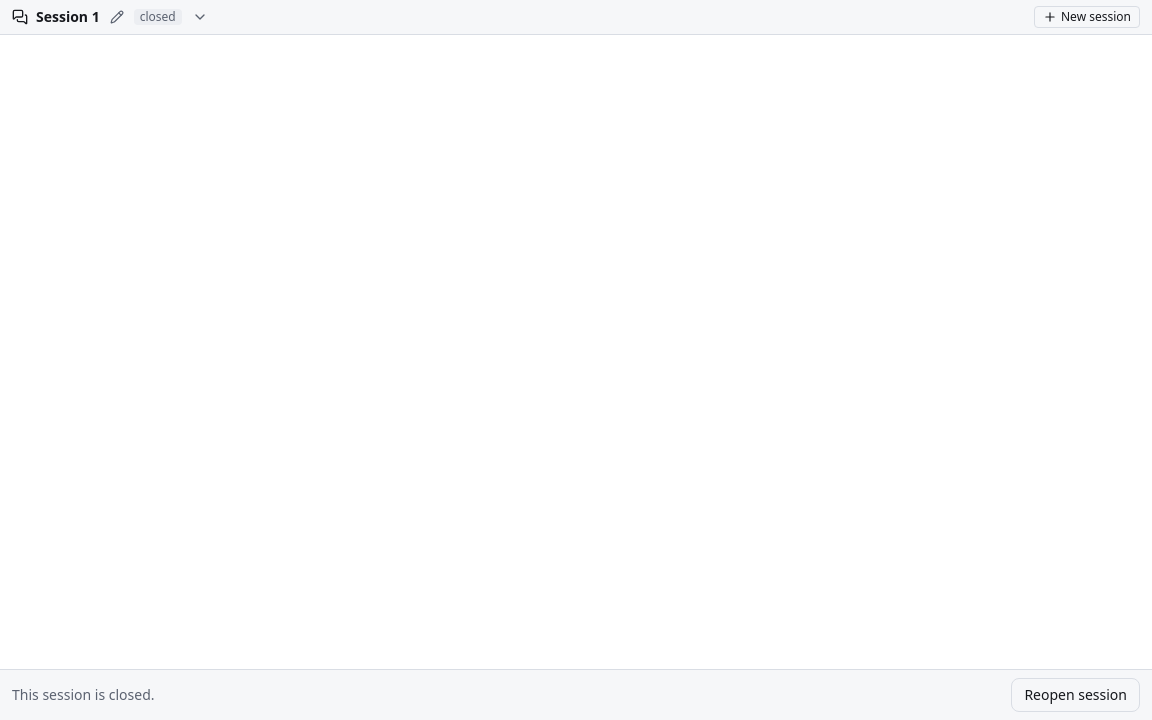
Test: ChatPanel with sessions › a closed session hides the composer and offers Reopen
Expected: the heading "Session 1" is shown, [36, 7, 100, 27]
Step 1. Click the button "Reopen session" → (1076, 695), box [1011, 678, 1140, 712]
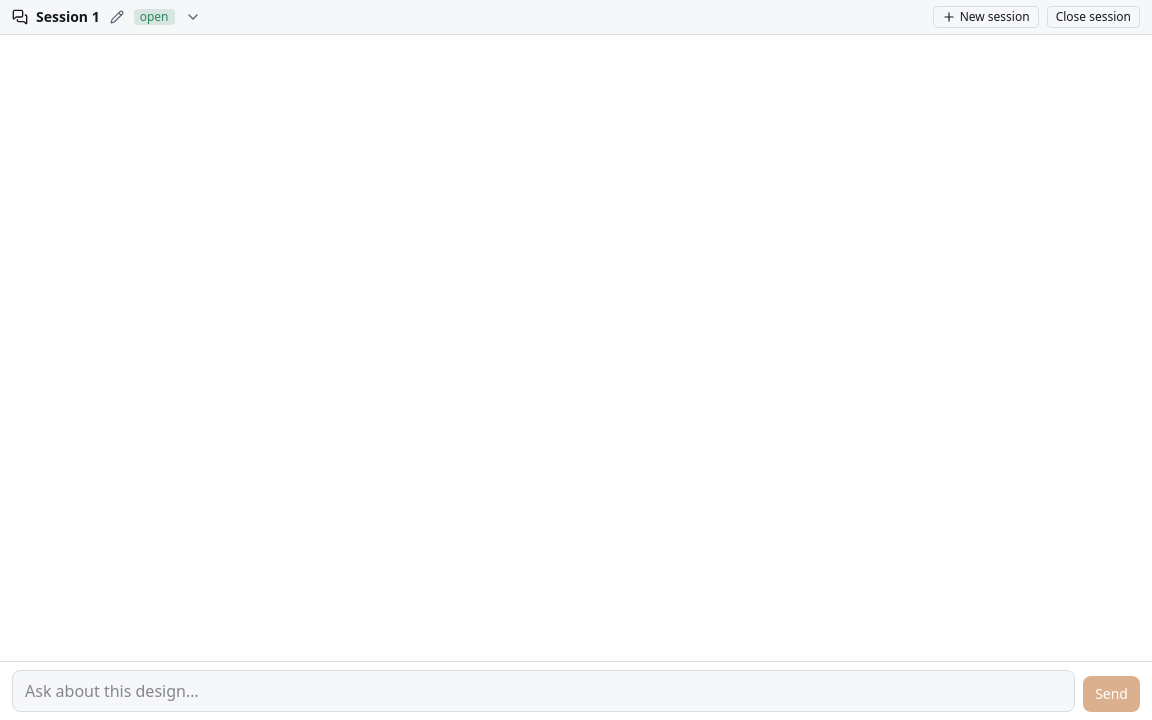
Now the text box named "Message" is shown, box [12, 670, 1075, 712]
